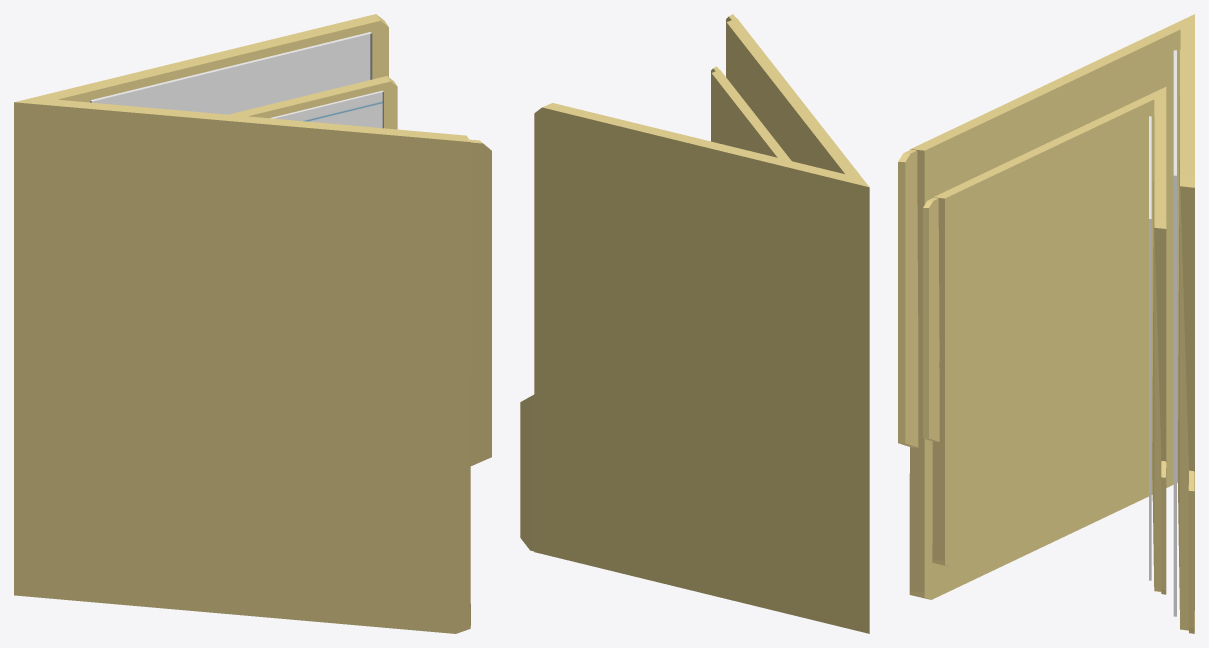
File: folder.gltf
The picture shows the model from 3 angles, left to right: view 1: azimuth 30°, elevation 25°; view 2: azimuth 150°, elevation 25°; view 3: azimuth 270°, elevation 25°; orthographic projection. The views are drawn at different scales.
Parts seen in each view (by area): view 1: Plane, Plane.001; view 2: Plane; view 3: Plane, Plane.001.
Part boxes in pixels (x1,y1,x2,y2): Plane: (14,14,491,633); Plane.001: (90,32,383,128); Plane: (520,14,869,633); Plane: (898,14,1194,633); Plane.001: (1149,50,1176,616).
Bounding box in the file's own units: 2.08 × 2.54 × 1.51.
Materials: 2 (2 with a texture image).
